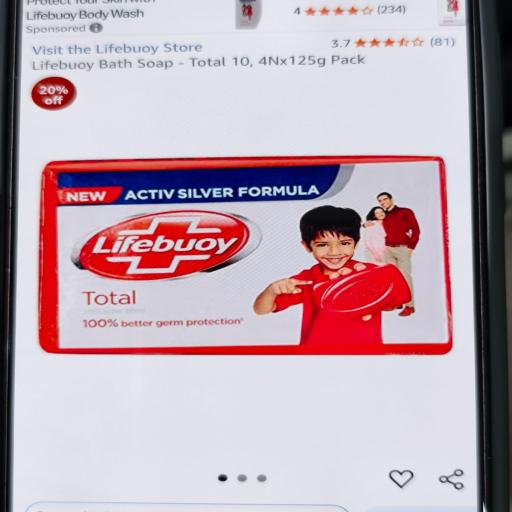lifebuoy: (39, 157, 451, 354)
